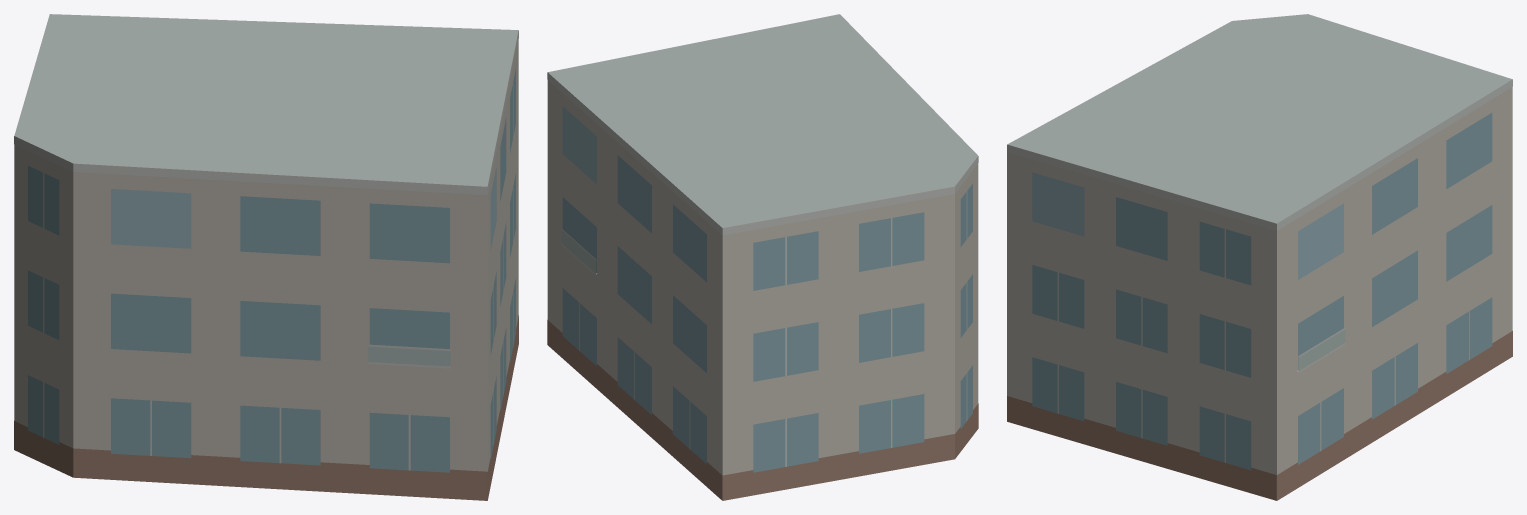
Rendered from survey-upis-32642400.glb.
3 views of the same model, side by side, from view 1: azimuth 30°, elevation 25°; view 2: azimuth 150°, elevation 25°; view 3: azimuth 270°, elevation 25° (orthographic). The views are drawn at different scales.
Visible parts, largest first — view 1: survey-upis-32642400.tmp; view 2: survey-upis-32642400.tmp; view 3: survey-upis-32642400.tmp.
Part boxes in pixels (x1,y1,x2,y2): survey-upis-32642400.tmp: (14, 14, 518, 500); survey-upis-32642400.tmp: (547, 14, 978, 500); survey-upis-32642400.tmp: (1007, 14, 1512, 500).
Size of the model in its own units: 14.85 by 9.15 by 15.14.
